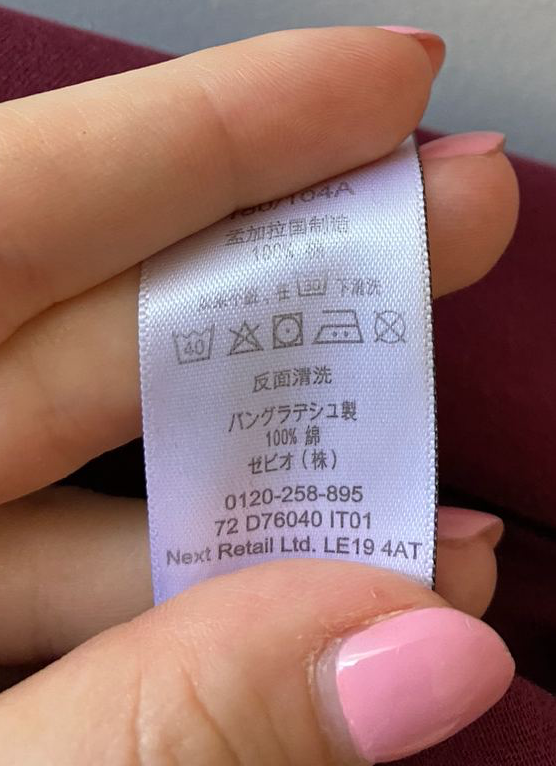do_not_bleach: (225, 316, 267, 359)
do_not_dry_clean: (368, 304, 413, 348)
ironing_at_med_temp: (308, 304, 368, 349)
tumble_drying_low_temps: (268, 308, 309, 353)
wash_at_or_below_40: (169, 320, 220, 371)
